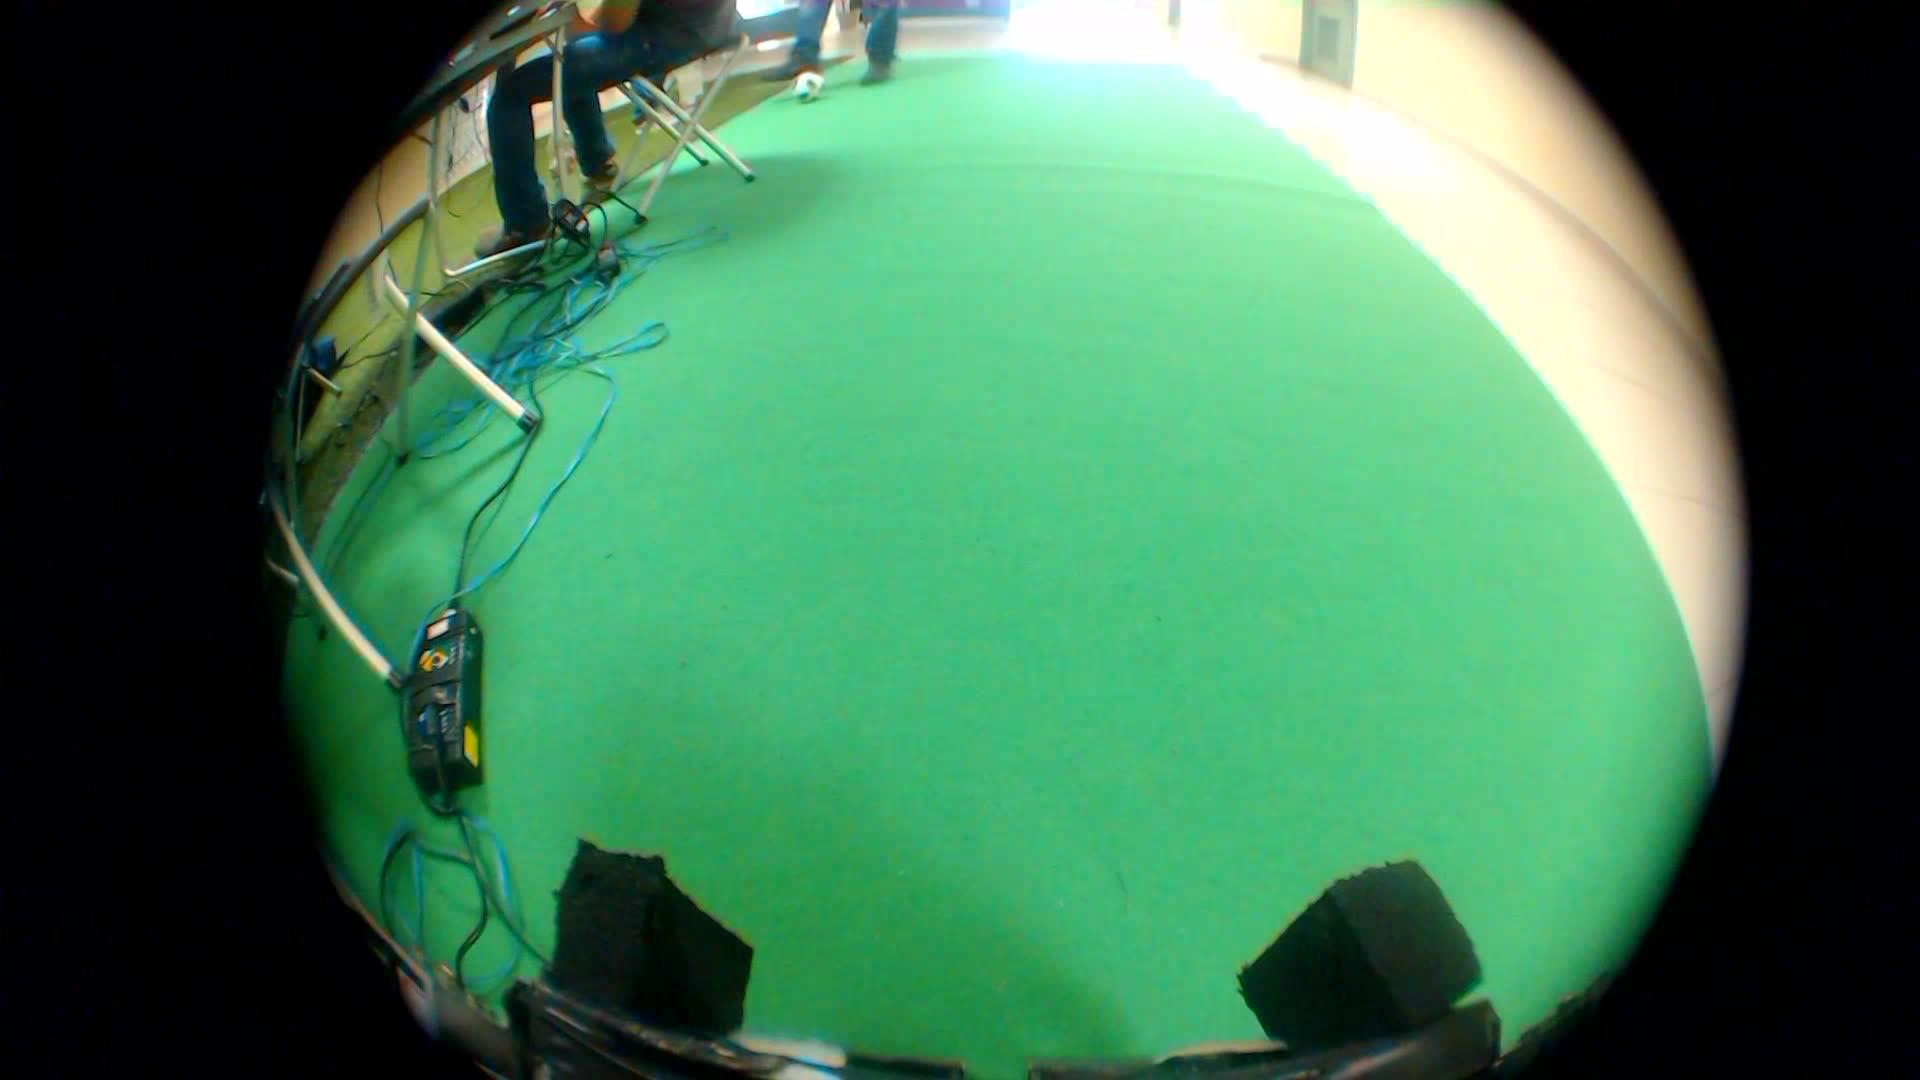ball: (785, 67, 825, 113)
